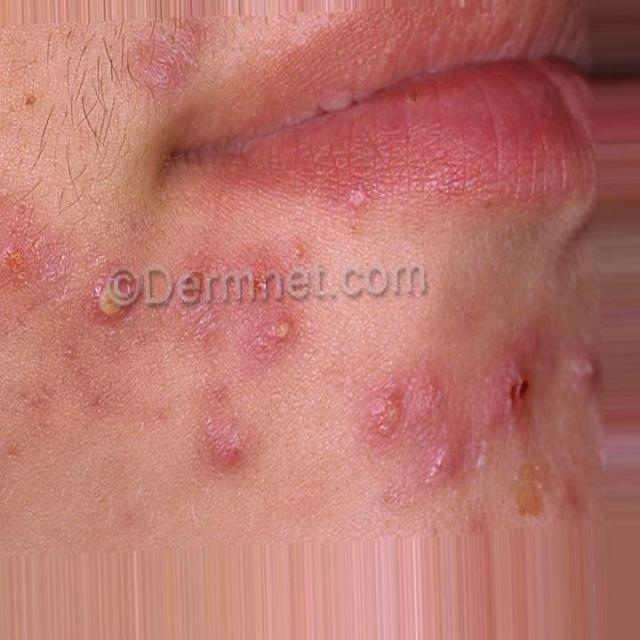acne: (406, 370, 464, 468), (194, 382, 249, 478), (86, 256, 154, 326), (564, 306, 612, 400), (494, 348, 546, 426), (0, 216, 40, 315), (178, 258, 220, 346), (548, 437, 596, 510), (128, 35, 198, 80), (252, 284, 295, 350), (372, 368, 402, 451)
